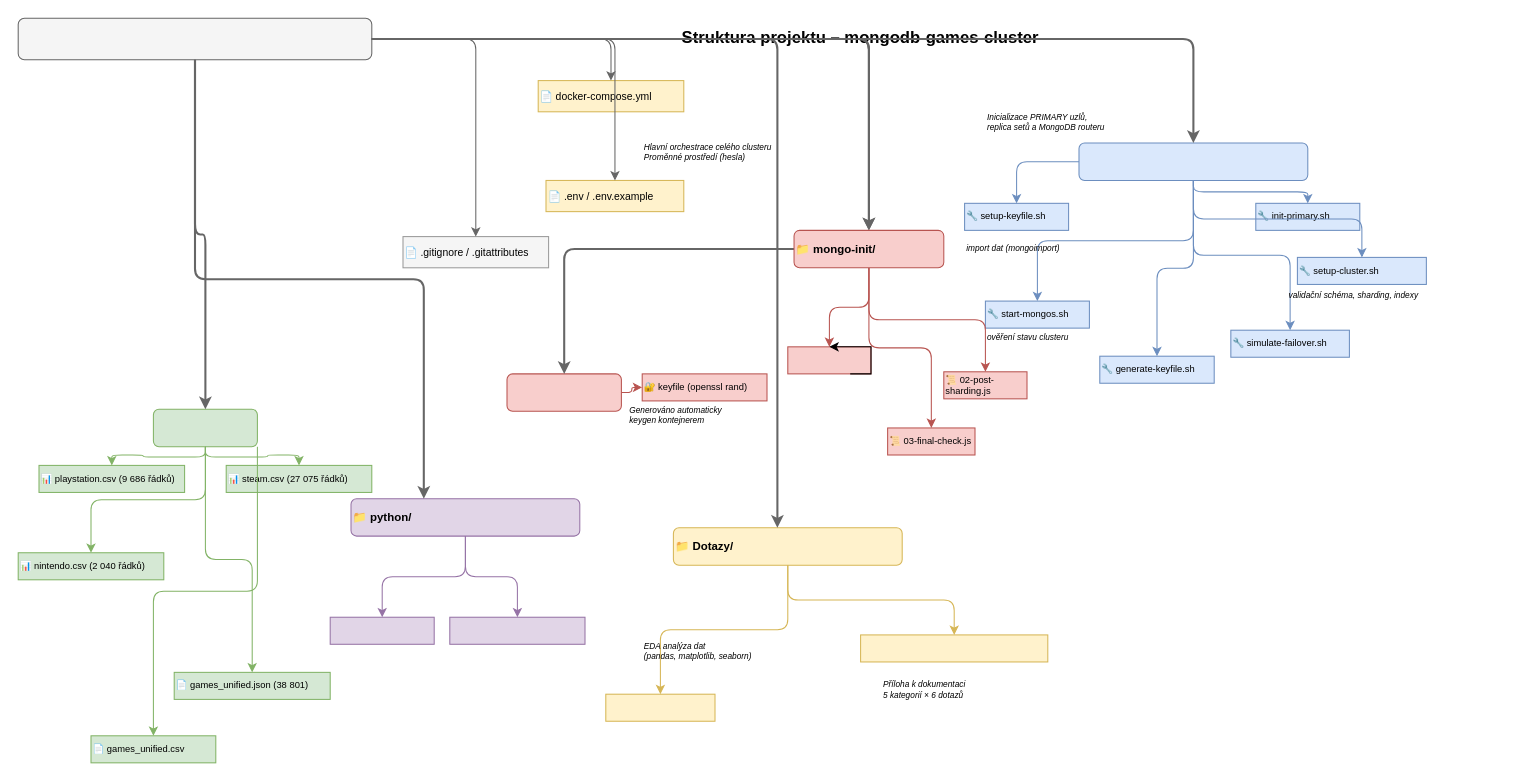
Some shapes in this 1513 by 781 pixel diagram are drawn without their labels. The shapes that lost their labels are listed below. From the top down, each one's box as (x1, y1, x2, y2) in pixels, then its label:
(17, 17, 372, 60): 📁 mongodb-games-cluster/
(1078, 142, 1308, 180): 📁 scripts/
(787, 346, 871, 374): 📜 01-init-db.js
(506, 373, 621, 411): 📁 secrets/ (.gitignore)
(152, 408, 257, 447): 📁 data/
(329, 616, 434, 644): 📓 analysis.ipynb
(449, 616, 585, 644): 🐍 prepare_unified_dataset.py
(860, 634, 1048, 662): 📜 dotazy.js (30 dotazů)
(605, 693, 715, 721): 🔧 run-queries.sh
